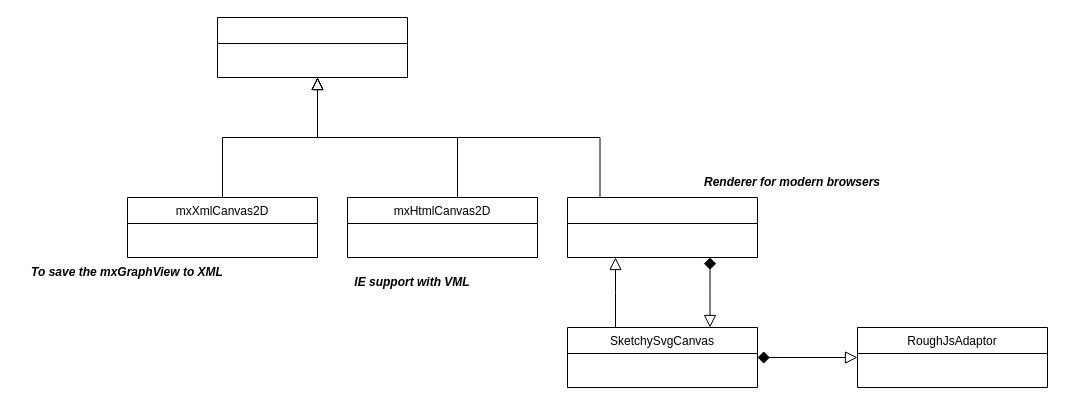
Image size: 1065x405. Some labels were removed from this diagram. Here are the shapes that lost their labels. From the top down, the box of each, then its label:
(216, 16, 408, 78): mxAbstractCanvas2D
(566, 196, 758, 258): mxSvgCanvas2D
